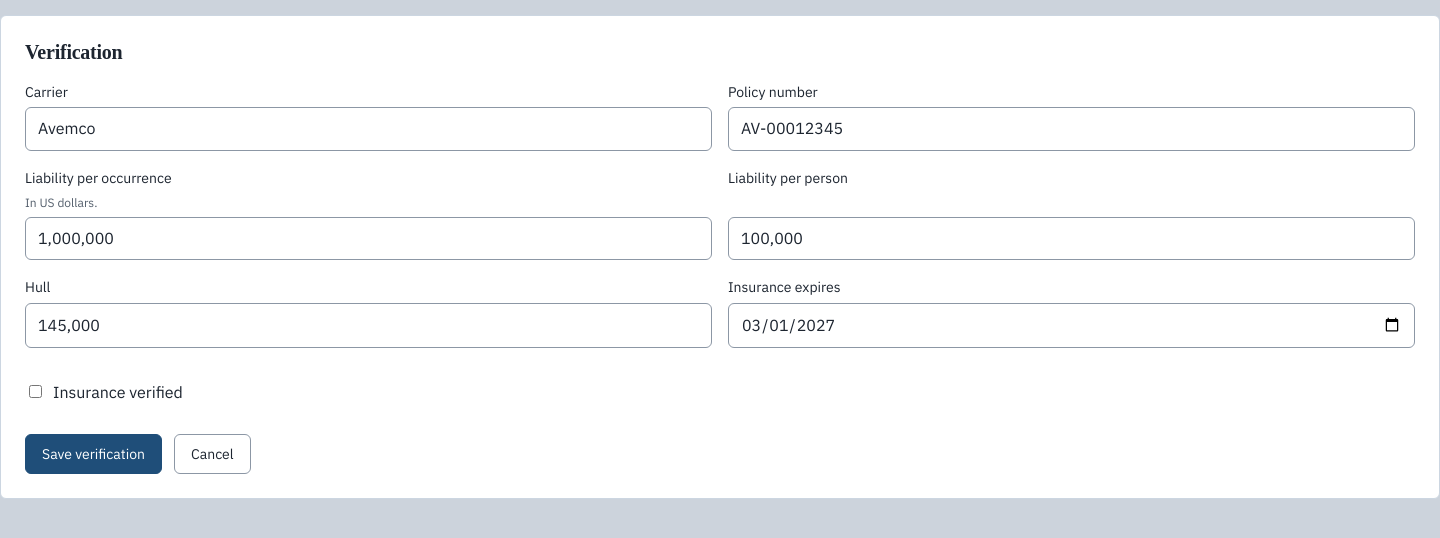
Scenario: InsuranceVerificationPanel › shows a refused field under that field
The width and height of the screenshot is (1440, 538).
Step 1. Click the button "Save verification" → x=94, y=454, box [25, 434, 162, 474]
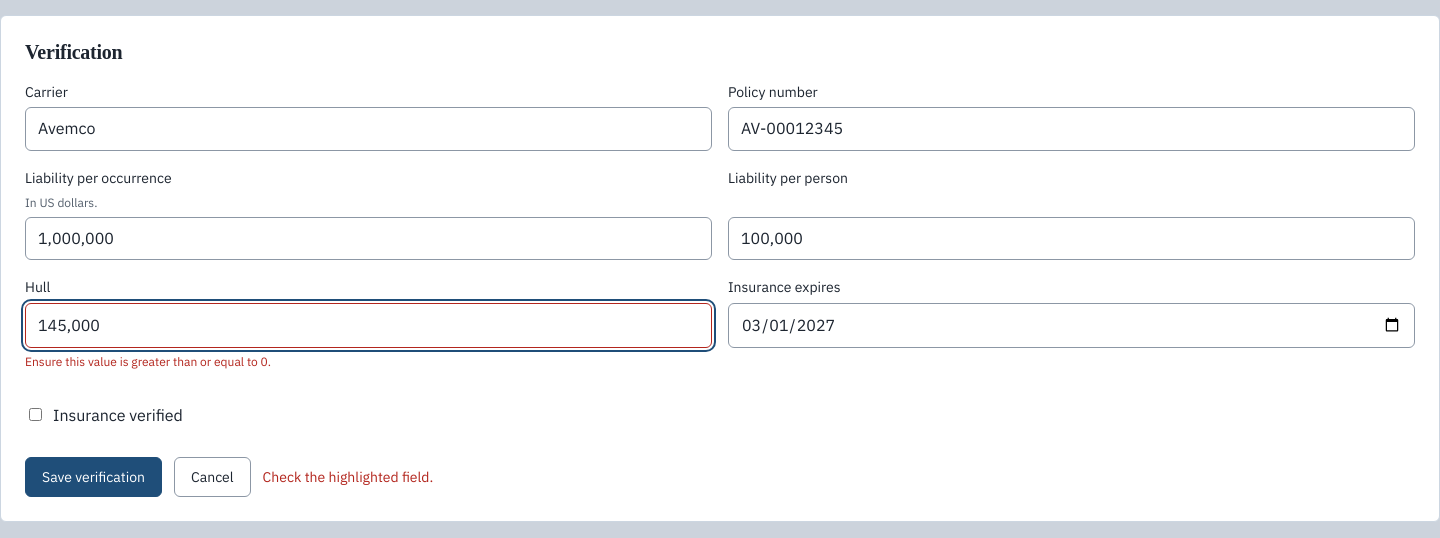
Check: the message "Ensure this value is greater than or equal to 0." is shown, box [25, 354, 271, 369]
